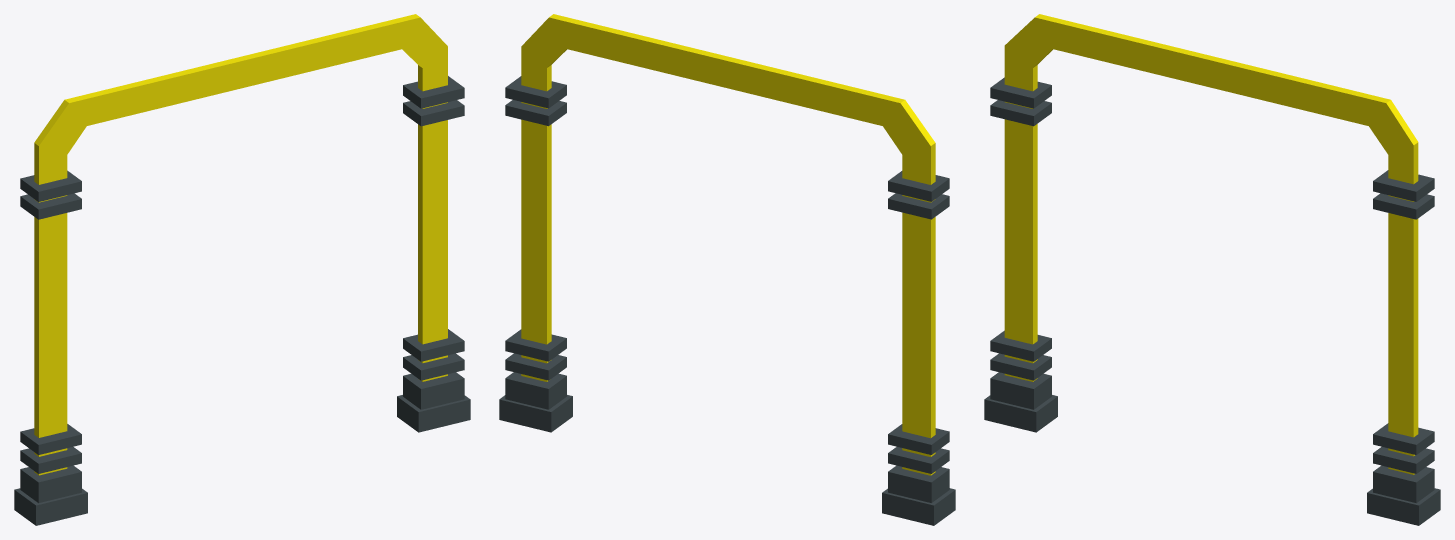
Rendered from Arc 01 Yellow.FBX.
The picture shows the model from 3 angles, left to right: view 1: azimuth 30°, elevation 25°; view 2: azimuth 150°, elevation 25°; view 3: azimuth 330°, elevation 25°; orthographic projection.
Parts seen in each view (by area): view 1: Arc 01 Yellow; view 2: Arc 01 Yellow; view 3: Arc 01 Yellow.
Part boxes in pixels (x1=…): Arc 01 Yellow: x1=14, y1=14, x2=470, y2=525; Arc 01 Yellow: x1=499, y1=14, x2=955, y2=525; Arc 01 Yellow: x1=984, y1=14, x2=1440, y2=525.
Size of the model in its own units: 290 by 260 by 25.22.
